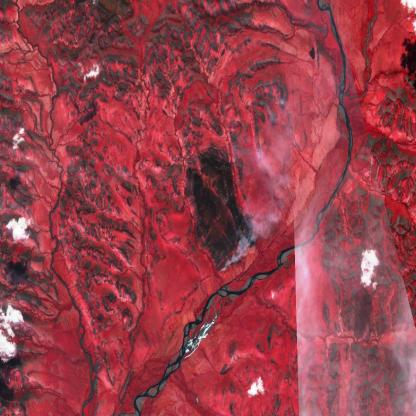fire: (183, 148, 260, 285)
